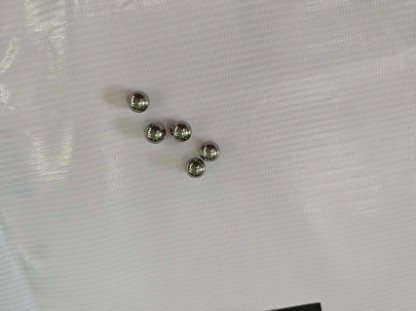ironball: (128, 92, 149, 112), (143, 123, 165, 142), (169, 121, 190, 140), (198, 142, 219, 160), (186, 158, 203, 175)
